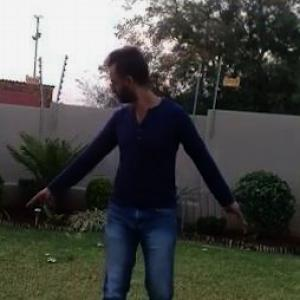land: (20, 53, 275, 299)
